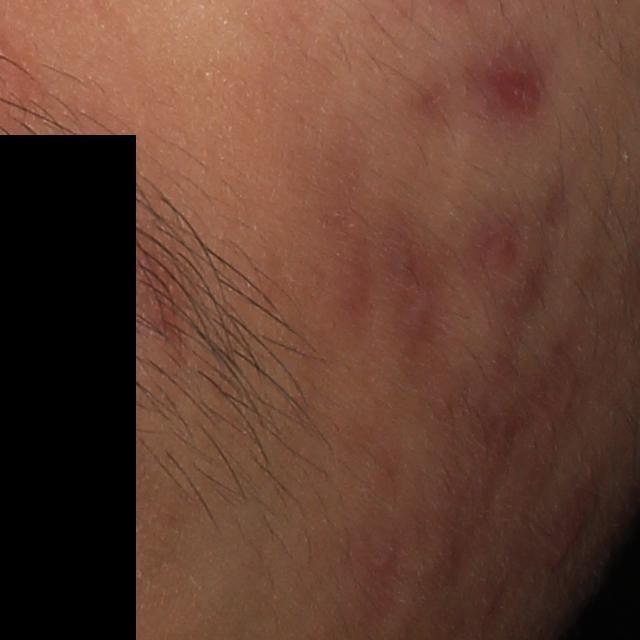atrophic_scar: (506, 191, 567, 360), (392, 208, 457, 343), (338, 226, 388, 333), (415, 79, 463, 124)
